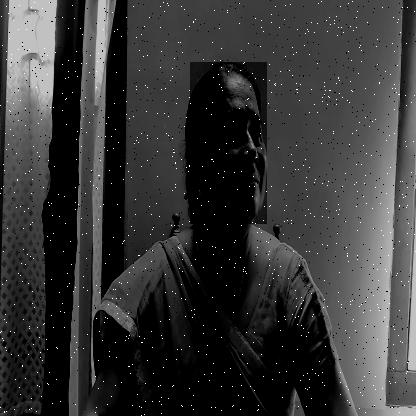Distracted: (190, 62, 267, 224)
